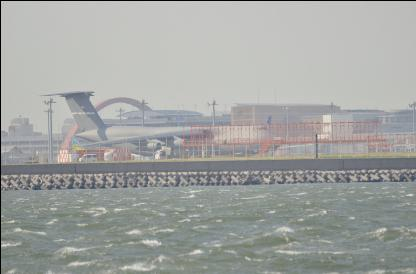C17: (37, 89, 280, 157)
